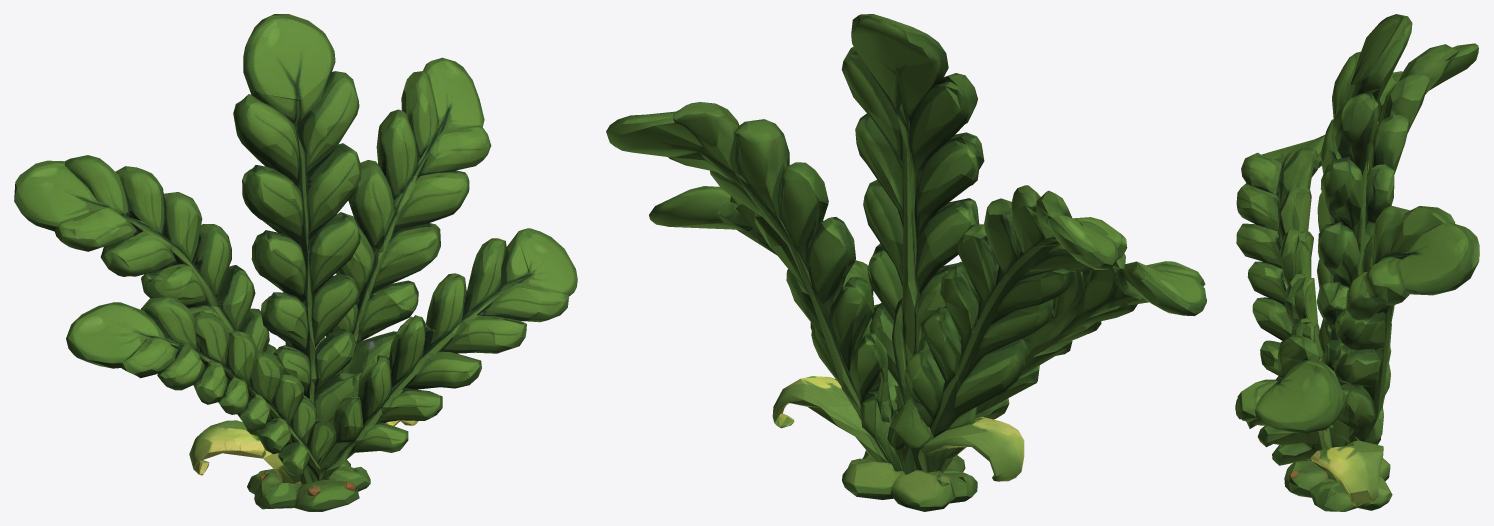
Rendered from fern-cluster-jungle.glb.
3 renders of one model, left to right at view 1: azimuth 30°, elevation 25°; view 2: azimuth 150°, elevation 25°; view 3: azimuth 270°, elevation 25°, orthographic. The views are drawn at different scales.
Visible parts, largest first — view 1: mesh_node; view 2: mesh_node; view 3: mesh_node.
Part boxes in pixels (x1,y1,x2,y2): mesh_node: (14, 14, 577, 511); mesh_node: (606, 14, 1206, 511); mesh_node: (1235, 14, 1479, 511).
Bounding box in the file's own units: 1.89 × 1.66 × 0.784.
Materials: 1 (1 with a texture image).
